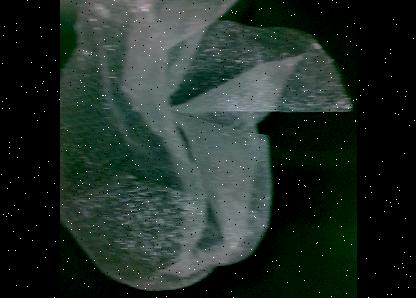Others: (64, 0, 354, 289)
